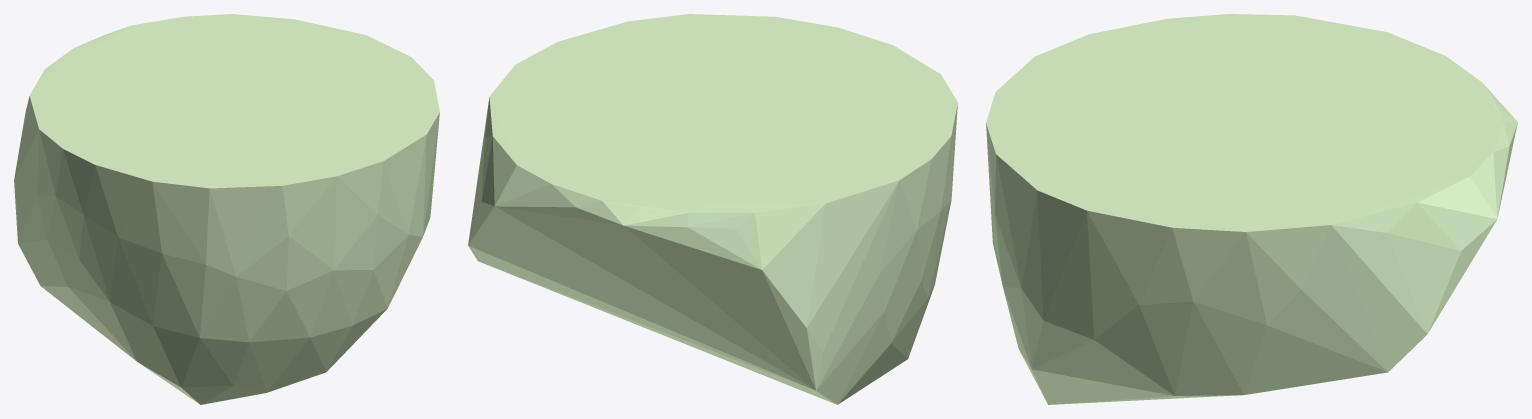
The model's file is kuka_link2_resp_coll_3.dae.
3 renders of one model, left to right at view 1: azimuth 30°, elevation 25°; view 2: azimuth 150°, elevation 25°; view 3: azimuth 270°, elevation 25°, orthographic. The views are drawn at different scales.
Visible parts, largest first — view 1: Node_0000015C5C912E10; view 2: Node_0000015C5C912E10; view 3: Node_0000015C5C912E10.
Part boxes in pixels (x1,y1,x2,y2): Node_0000015C5C912E10: (14,14,439,404); Node_0000015C5C912E10: (468,14,957,404); Node_0000015C5C912E10: (986,14,1517,404).
Size of the model in its own units: 0.1362 by 0.0898 by 0.1404.
